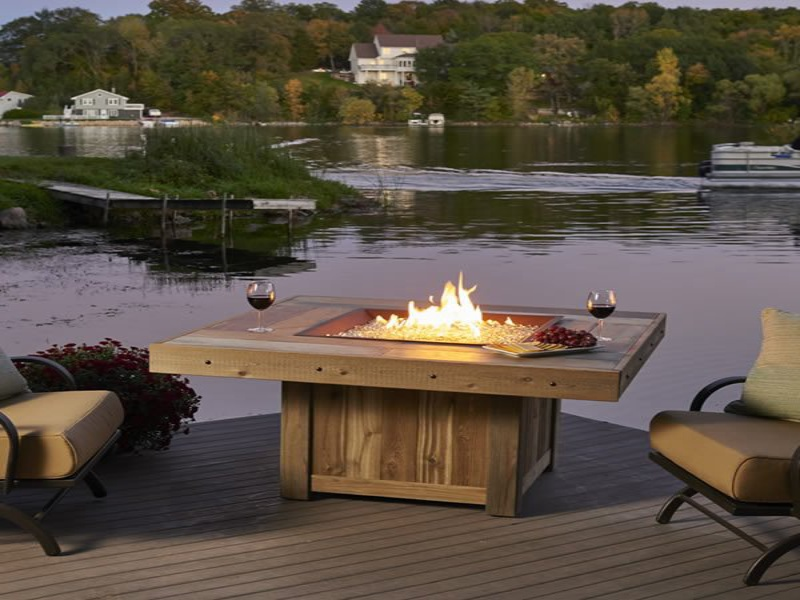fire: (435, 274, 480, 322), (407, 303, 437, 323), (387, 315, 399, 324)
